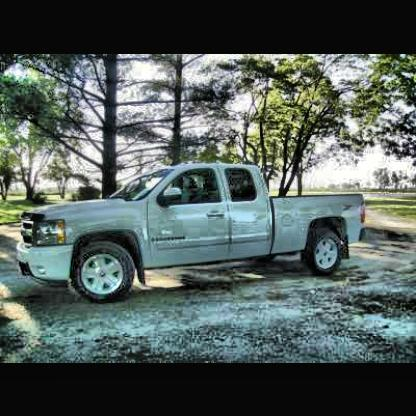Chevrolet Silverado 1500 Extended Cab 2012: (14, 162, 370, 306)
